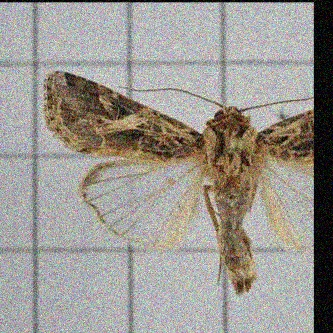Spodoptera litura: (42, 70, 313, 298)
